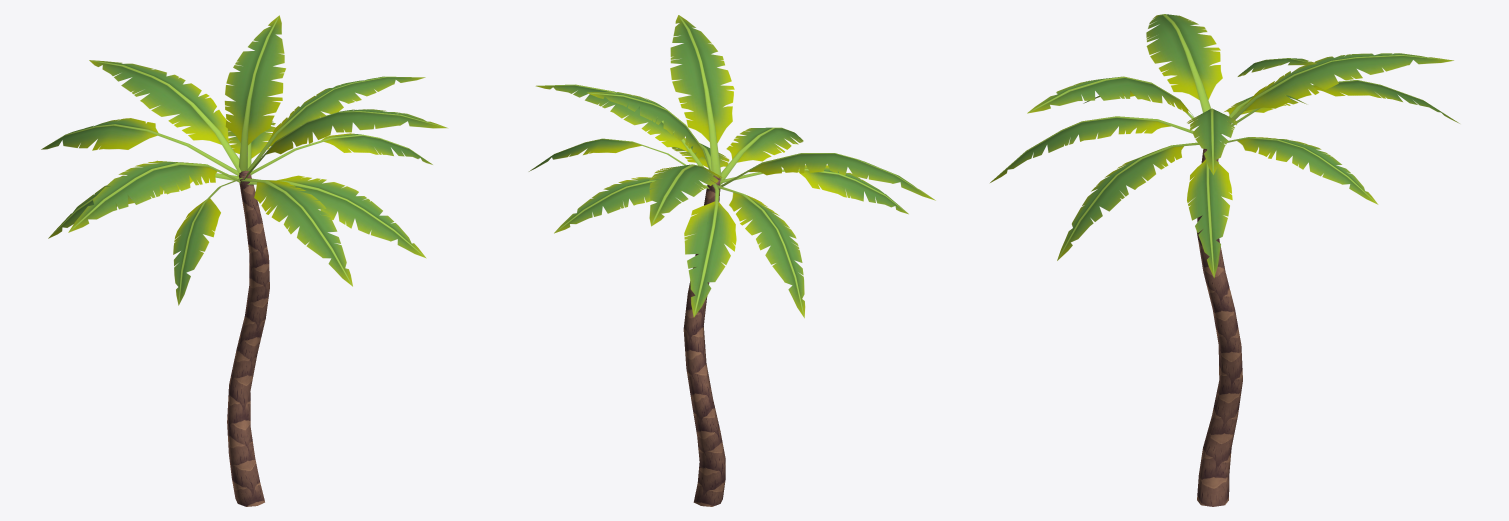
File: palma.glb
3 views of the same model, side by side, from view 1: azimuth 30°, elevation 25°; view 2: azimuth 150°, elevation 25°; view 3: azimuth 270°, elevation 25° (orthographic). The views are drawn at different scales.
Visible parts, largest first — view 1: palma; view 2: palma; view 3: palma.
Part boxes in pixels (x1,y1,x2,y2): palma: (41,15,447,506); palma: (529,15,935,506); palma: (990,14,1459,506).
Bounding box in the file's own units: 11.97 × 12 × 11.63.
2 materials, 2 textured.
